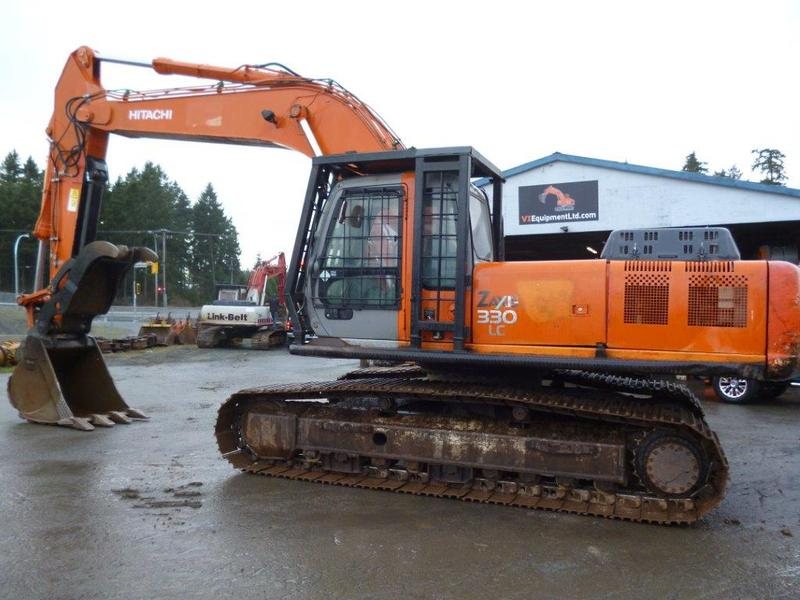shovel: (2, 42, 800, 535)
